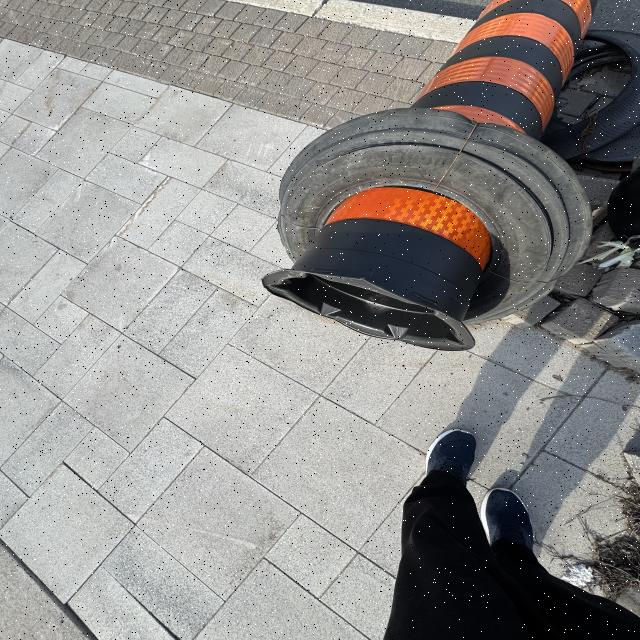Teraffic Barrel: (263, 0, 592, 350)
